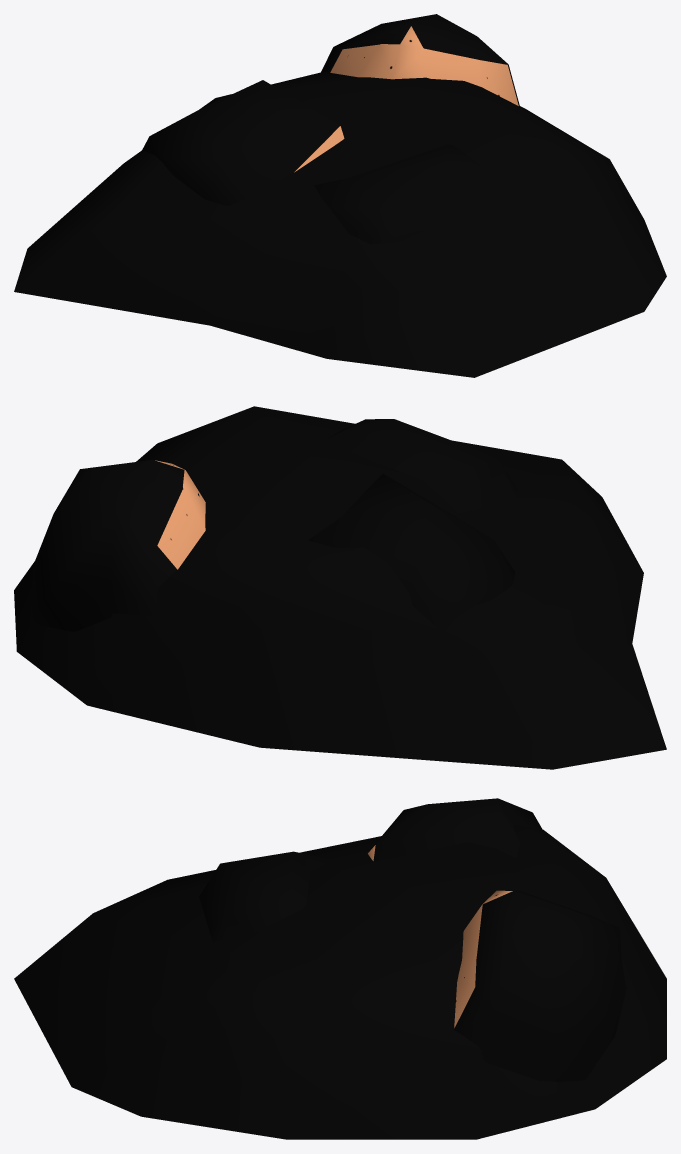
File: Rooms_Paradise_CrystalBase_Art.fbx
The picture shows the model from 3 angles, top to bottom: view 1: azimuth 30°, elevation 25°; view 2: azimuth 150°, elevation 25°; view 3: azimuth 270°, elevation 25°; orthographic projection. The views are drawn at different scales.
Parts seen in each view (by area): view 1: Rooms_Paradise_CrystalBase_Outline, Rooms_Paradise_CrystalBase_Art; view 2: Rooms_Paradise_CrystalBase_Outline, Rooms_Paradise_CrystalBase_Art; view 3: Rooms_Paradise_CrystalBase_Outline, Rooms_Paradise_CrystalBase_Art.
Boxes of the visible parts, bbox=[...] form: Rooms_Paradise_CrystalBase_Outline: bbox=[14, 14, 666, 377]; Rooms_Paradise_CrystalBase_Art: bbox=[294, 26, 518, 172]; Rooms_Paradise_CrystalBase_Outline: bbox=[14, 406, 666, 769]; Rooms_Paradise_CrystalBase_Art: bbox=[155, 460, 205, 569]; Rooms_Paradise_CrystalBase_Outline: bbox=[14, 798, 666, 1139]; Rooms_Paradise_CrystalBase_Art: bbox=[368, 845, 512, 1027].
Size of the model in its own units: 533 by 143 by 484.
